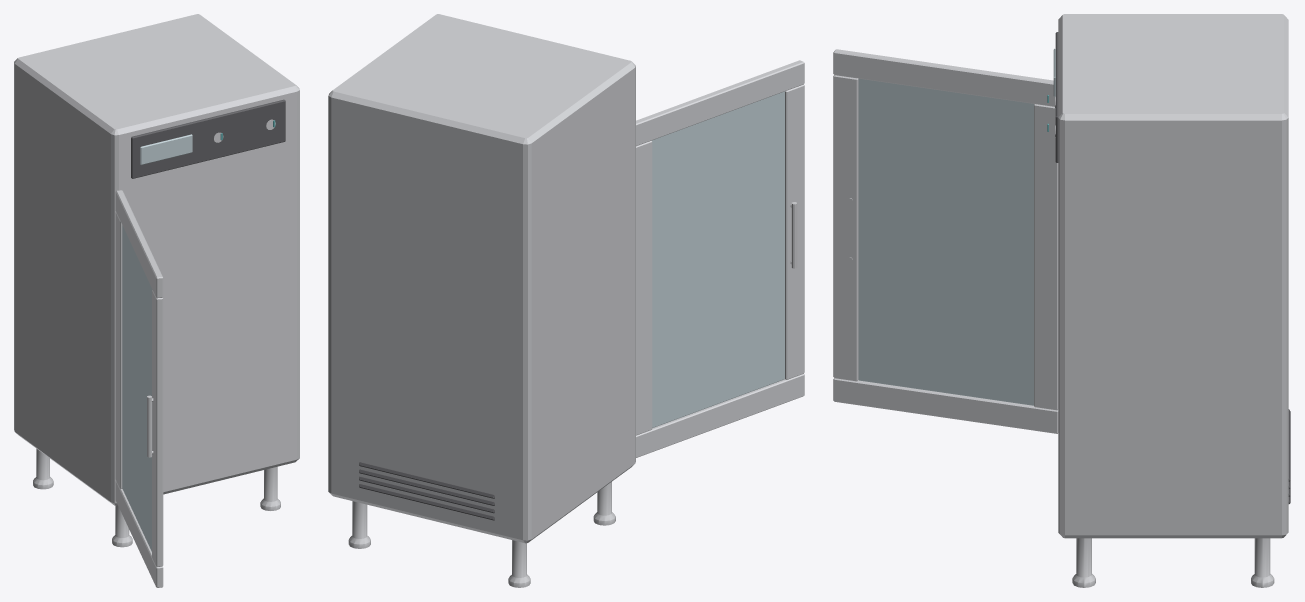
Rendered from fast-food-and-drive-thru-holding-cabinet-door-open-1b2f4d59.glb.
The picture shows the model from 3 angles, left to right: view 1: azimuth 30°, elevation 25°; view 2: azimuth 150°, elevation 25°; view 3: azimuth 270°, elevation 25°; orthographic projection. The views are drawn at different scales.
Visible parts, largest first — view 1: holding-cabinet-door-open, cabinet-door (×2); view 2: holding-cabinet-door-open, cabinet-door (×2); view 3: holding-cabinet-door-open, cabinet-door (×2).
Part boxes in pixels (x1=…): holding-cabinet-door-open: x1=14, y1=14, x2=299, y2=547; cabinet-door (×2): x1=115, y1=190, x2=163, y2=587; holding-cabinet-door-open: x1=328, y1=14, x2=635, y2=587; cabinet-door (×2): x1=636, y1=60, x2=804, y2=457; holding-cabinet-door-open: x1=1047, y1=14, x2=1290, y2=587; cabinet-door (×2): x1=833, y1=49, x2=1058, y2=433.
Bounding box in the file's own units: 0.8588 × 1.42 × 1.23.
